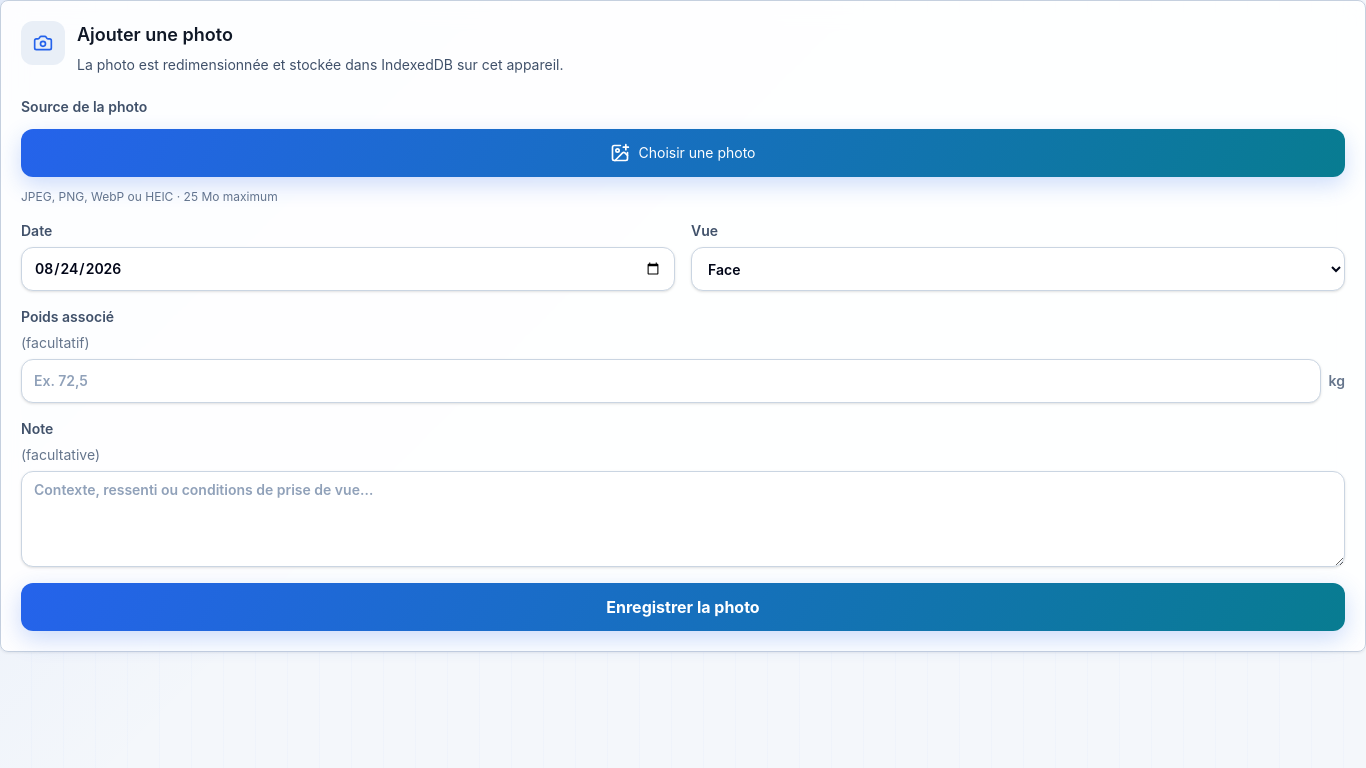
it: ProgressPhotoAddForm › exige une photo avant l’enregistrement
Click the button "Enregistrer la photo" at coordinates (683, 607), box [21,583,1345,631]
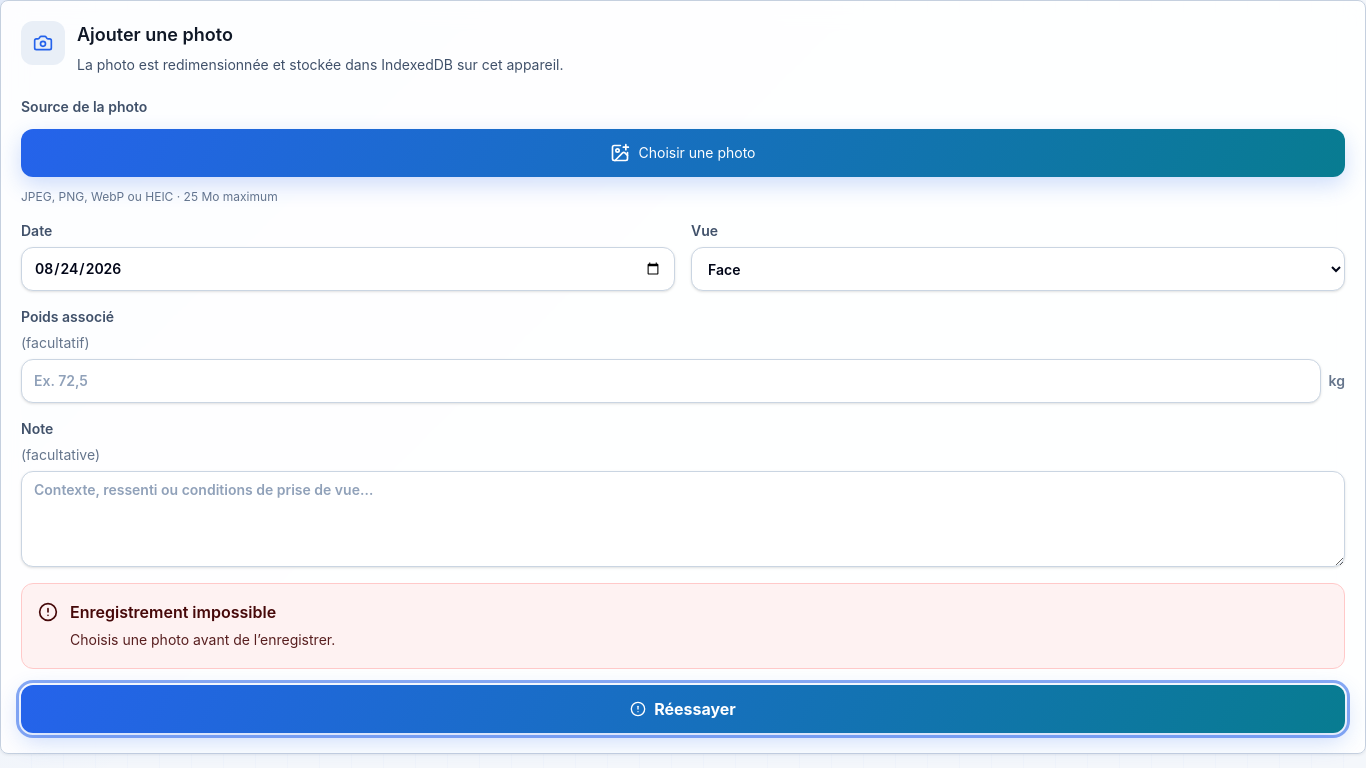
Result: the message shows "Choisis une photo" at [70,631,335,648]
